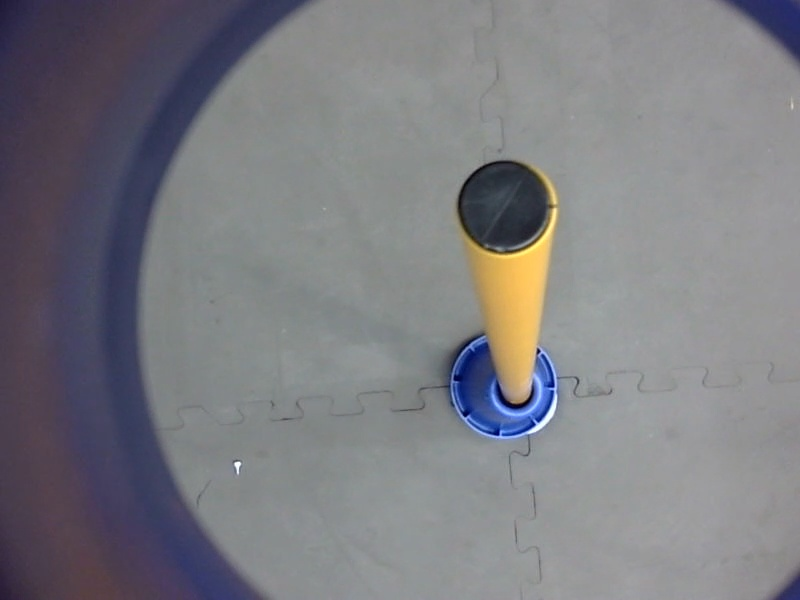tip: (449, 154, 561, 261)
